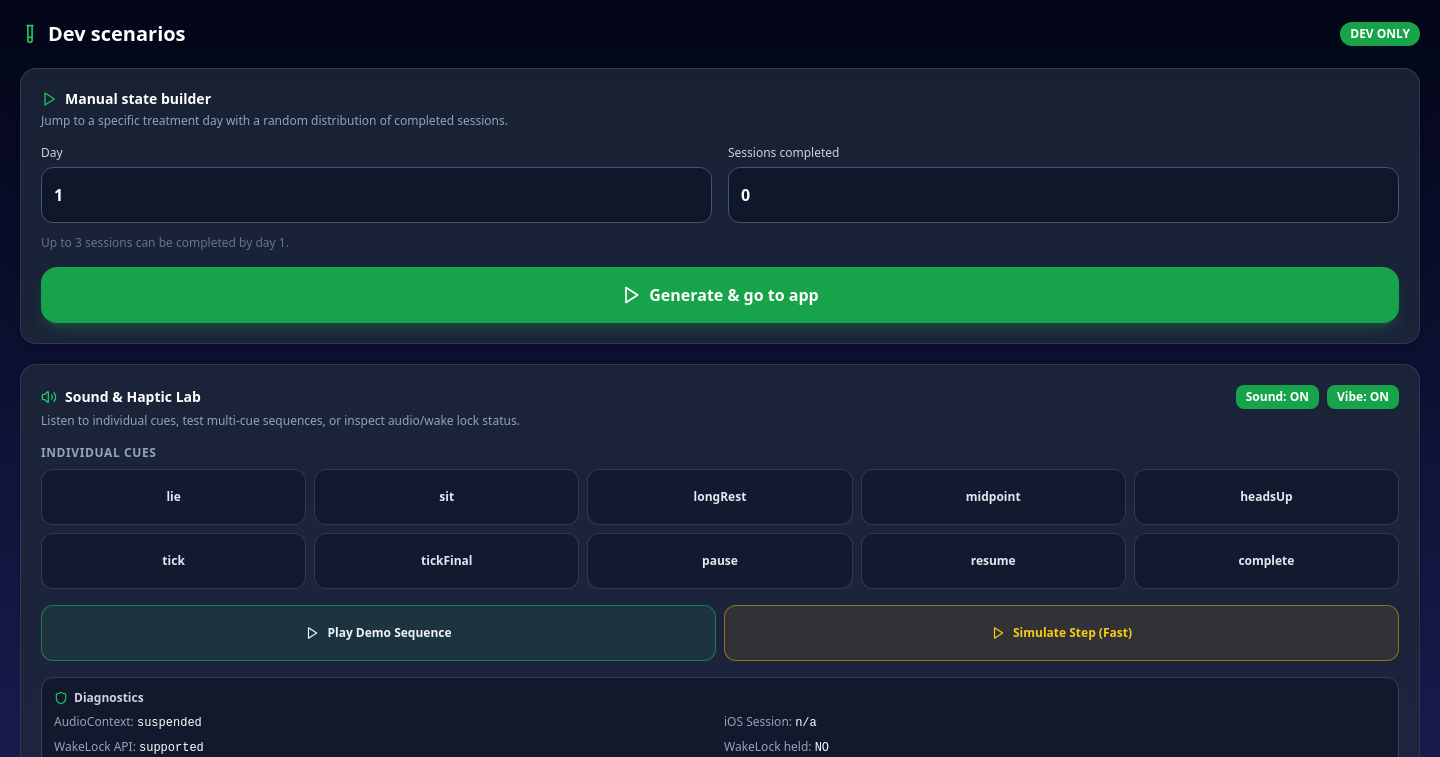
Test: DevScenariosScreen › disables generate button while there is an error
Replace the text in the number field labelled "Sessions completed" with "10" at (1064, 195), box x1=728 y1=167 x2=1399 y2=223
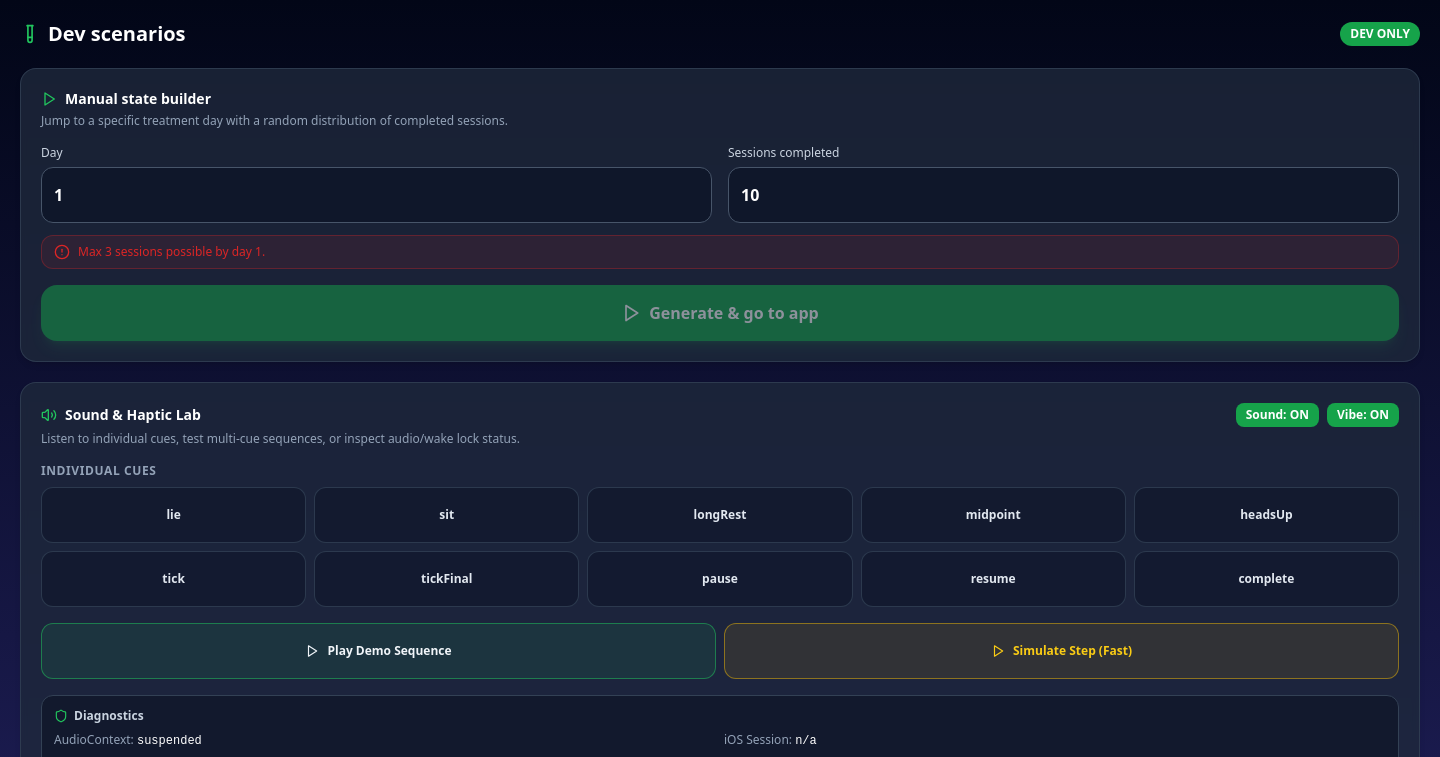
Expected: the button "Generate & go to app" is disabled, x1=41 y1=285 x2=1399 y2=341
